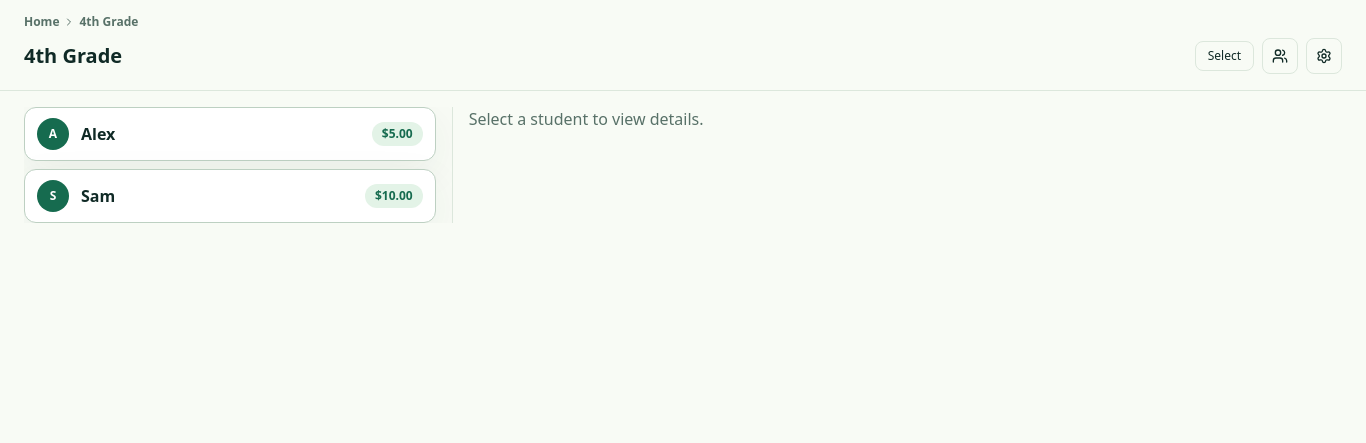
it: ClassroomDetailPage › group selection mode › selecting two students shows the group composer with both recipients
Step 1. Click the button "Select" → (1224, 56), box [1195,41,1254,71]
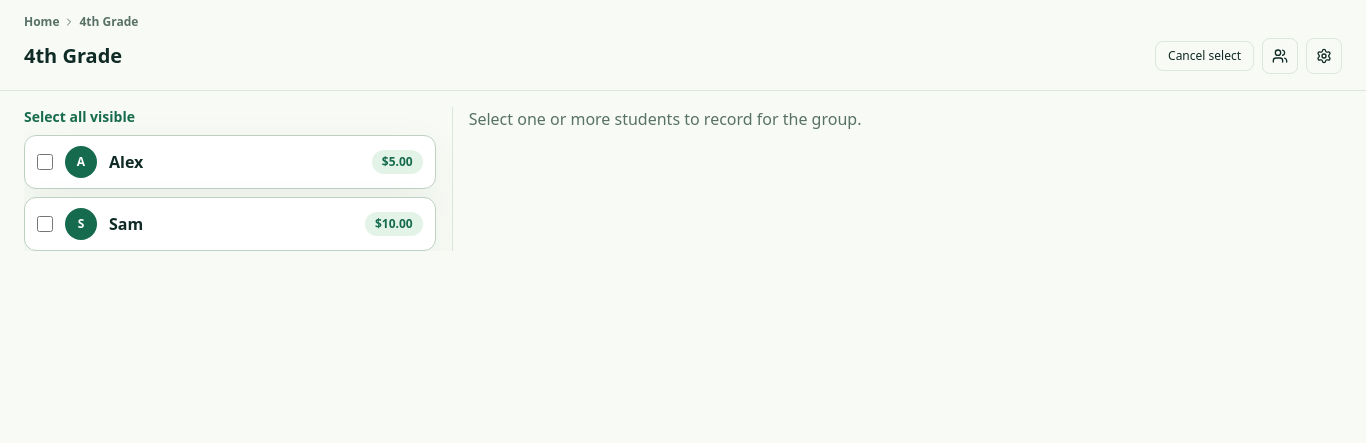
Step 2. Click the checkbox named "Select Alex" → (45, 162), box [37,154,53,170]
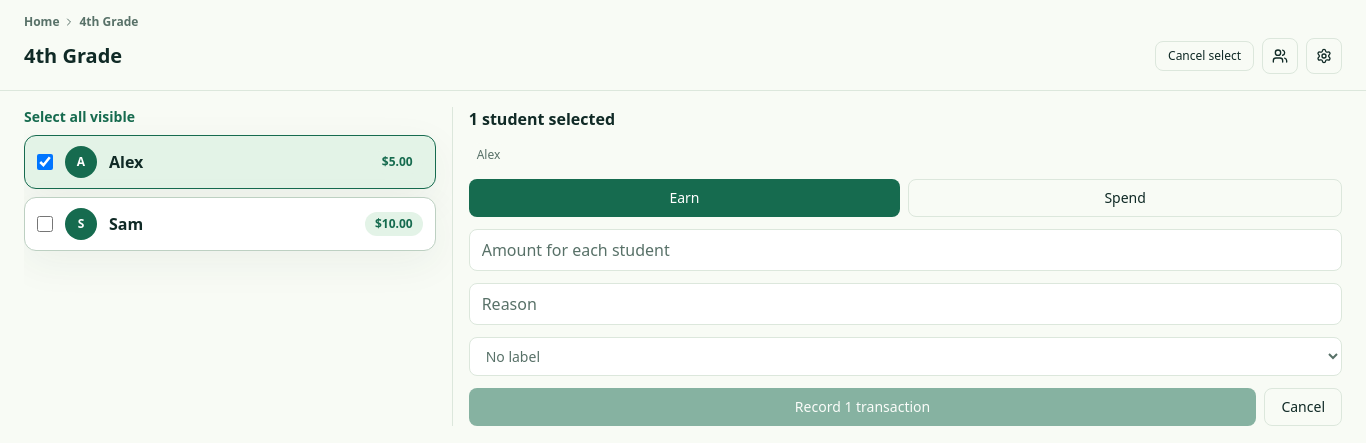
Step 3. Click the checkbox named "Select Sam" → (45, 224), box [37,216,53,232]
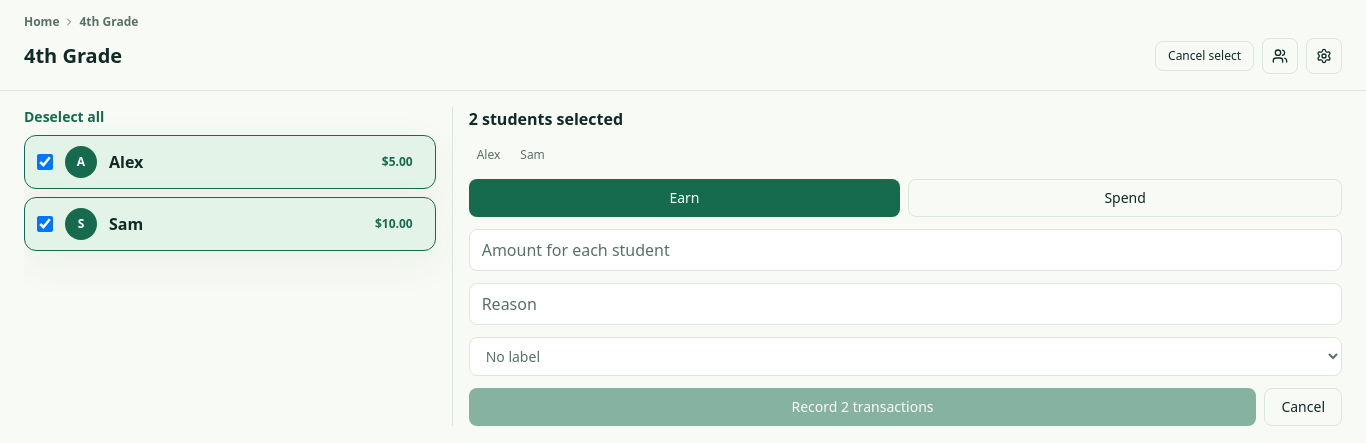
Expected: the text "2 students selected" is shown, [469,108,623,130]
Expected: the button "Record 2 transactions" is shown, [469,388,1256,426]
